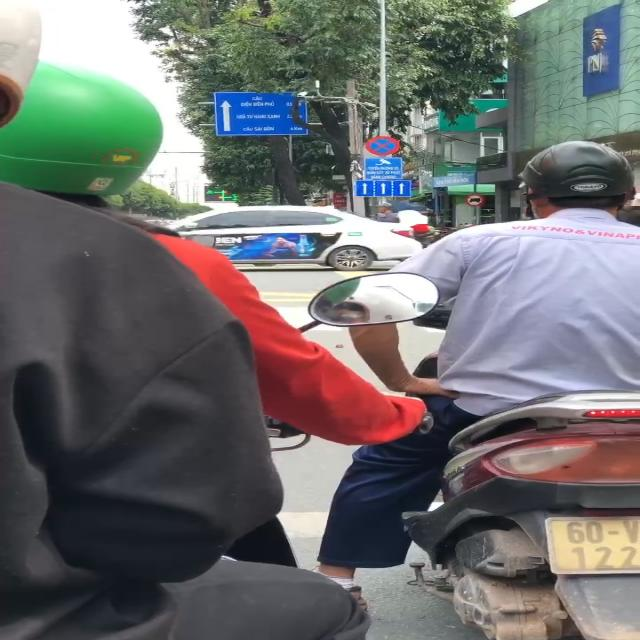Bien bao cam dung xe va do xe: (362, 133, 406, 158)
